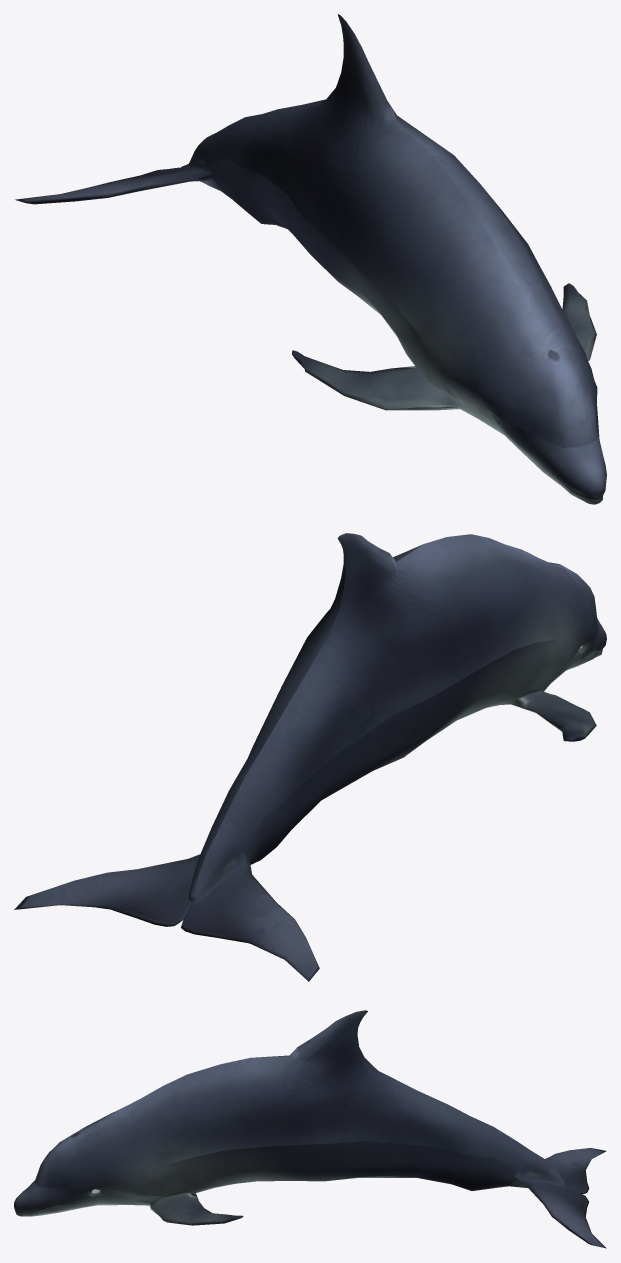
Rendered from dolphin.glb.
The picture shows the model from 3 angles, top to bottom: view 1: azimuth 30°, elevation 25°; view 2: azimuth 150°, elevation 25°; view 3: azimuth 270°, elevation 25°; orthographic projection. The views are drawn at different scales.
Parts seen in each view (by area): view 1: dolphin; view 2: dolphin; view 3: dolphin.
Boxes of the visible parts, bbox=[...] form: dolphin: bbox=[14, 14, 606, 504]; dolphin: bbox=[14, 533, 606, 981]; dolphin: bbox=[14, 1010, 606, 1248].
Size of the model in its own units: 0.5057 by 0.4968 by 1.3.
1 material, 1 textured.
